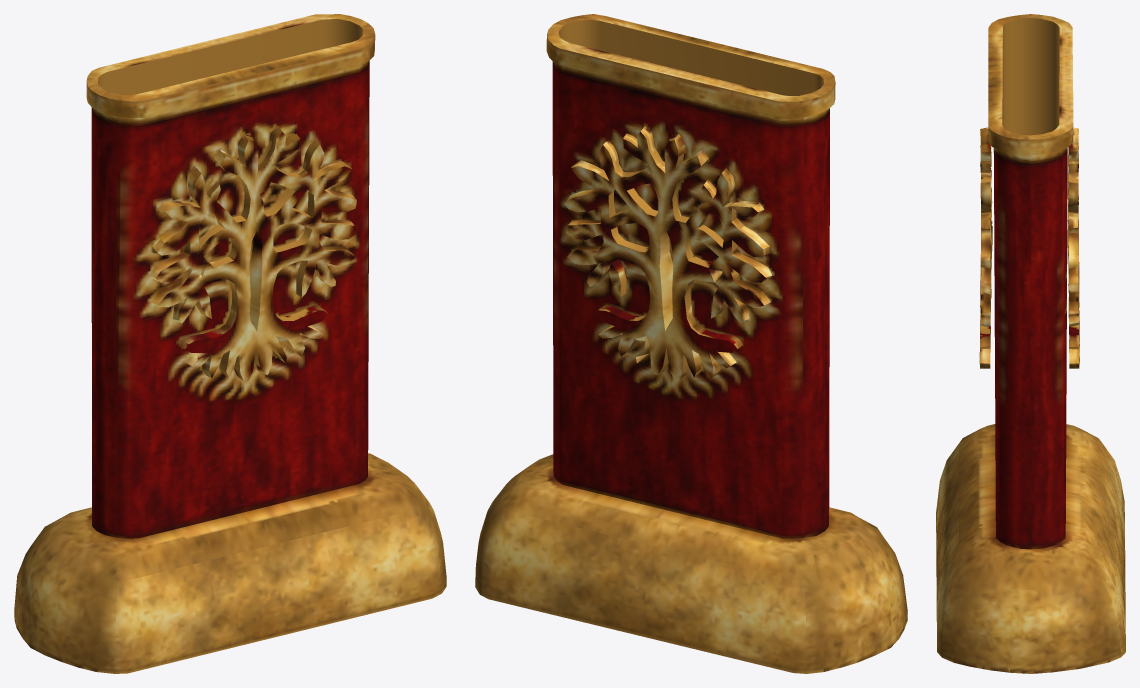
File: item_mm9_10241.glb
3 renders of one model, left to right at view 1: azimuth 30°, elevation 25°; view 2: azimuth 150°, elevation 25°; view 3: azimuth 270°, elevation 25°, orthographic. The views are drawn at different scales.
Visible parts, largest first — view 1: d10241; view 2: d10241; view 3: d10241.
Boxes of the visible parts, box(x1,y1,x2,y2) form: d10241: box(14, 14, 446, 673); d10241: box(475, 14, 907, 673); d10241: box(936, 14, 1125, 673).
Size of the model in its own units: 0.7722 by 1 by 0.34.
1 material, 1 textured.
